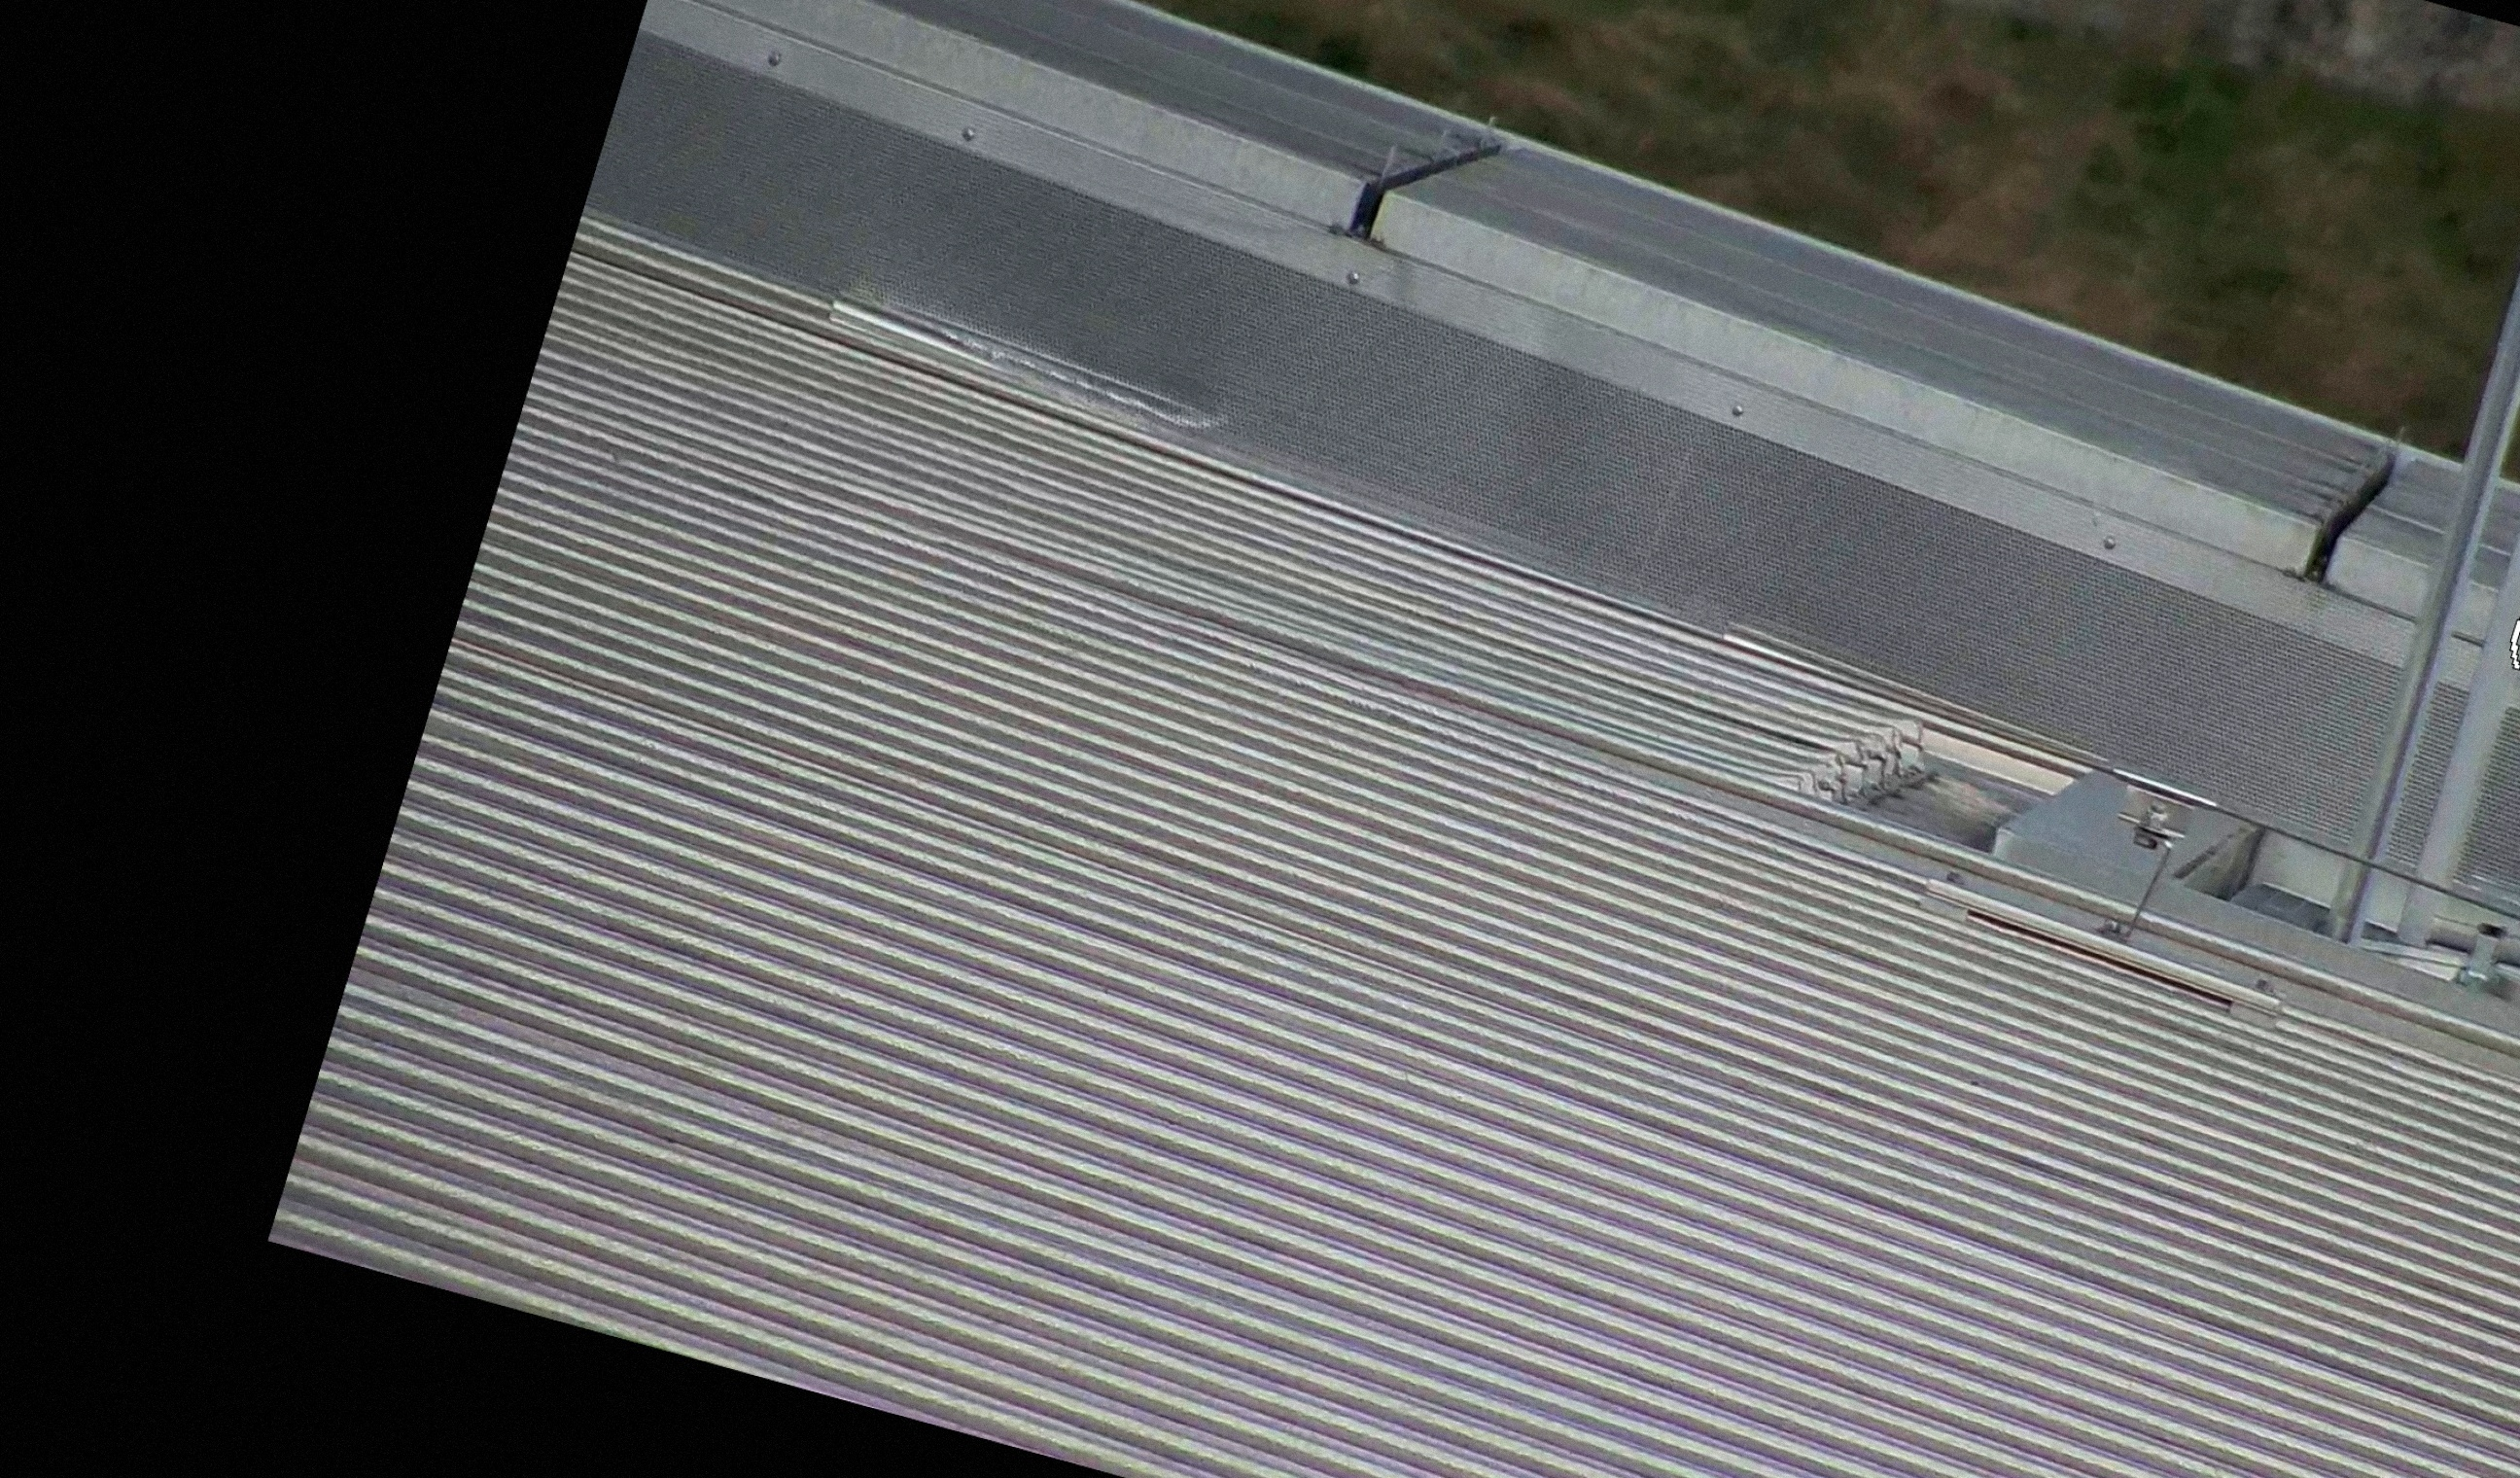Other: (2283, 412, 2439, 612)
